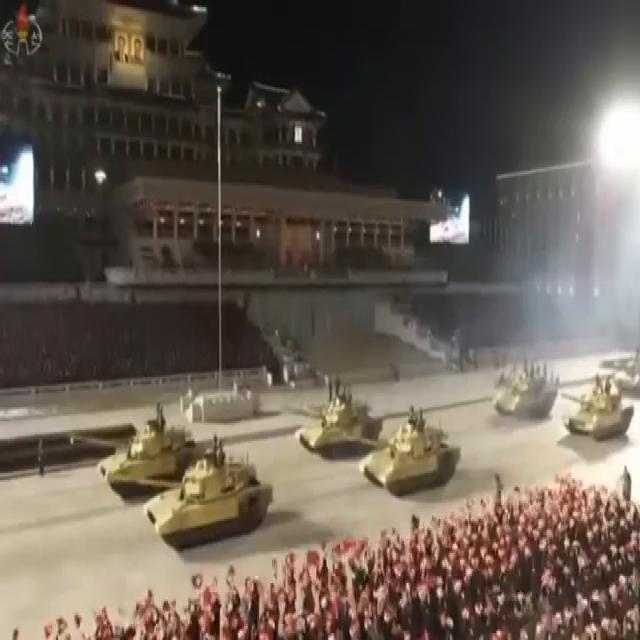north tank: (145, 432, 281, 562), (93, 408, 204, 521), (366, 401, 473, 503), (287, 373, 385, 462), (550, 378, 633, 454), (492, 352, 560, 424)
